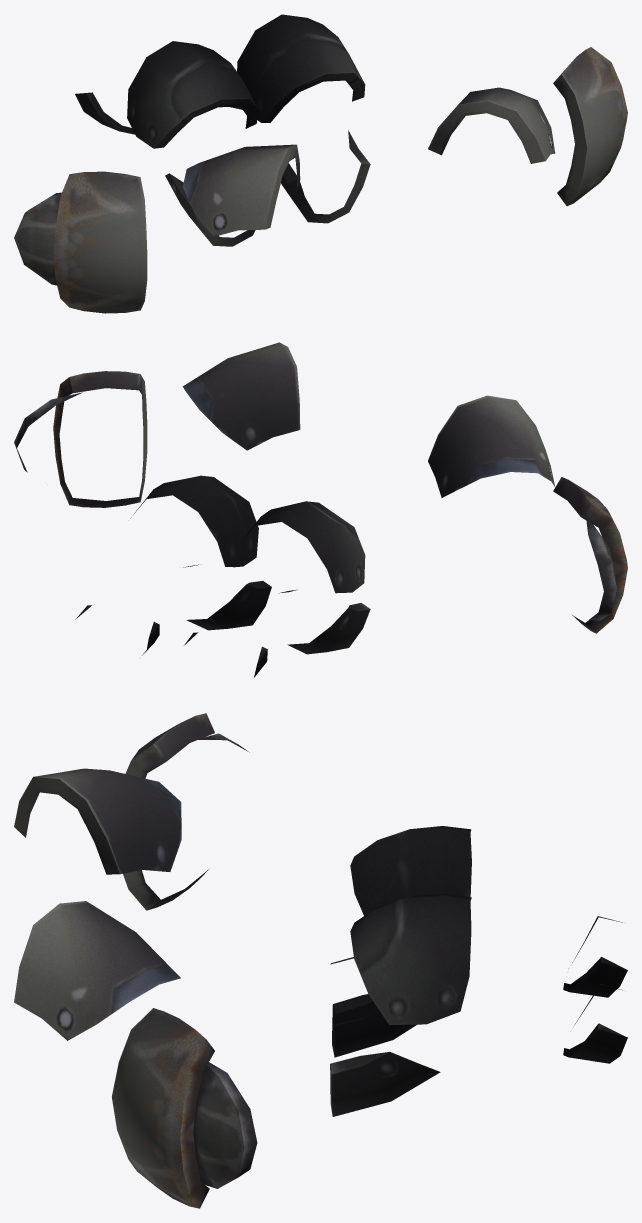
The model's file is Part_Ranger_pads.glb.
The picture shows the model from 3 angles, top to bottom: view 1: azimuth 30°, elevation 25°; view 2: azimuth 150°, elevation 25°; view 3: azimuth 270°, elevation 25°; orthographic projection. The views are drawn at different scales.
Visible parts, largest first — view 1: parts.model_r_pads_fixed-Mesh[0]; view 2: parts.model_r_pads_fixed-Mesh[0]; view 3: parts.model_r_pads_fixed-Mesh[0].
Part boxes in pixels (x1,y1,x2,y2): parts.model_r_pads_fixed-Mesh[0]: (14, 14, 627, 313); parts.model_r_pads_fixed-Mesh[0]: (14, 342, 627, 677); parts.model_r_pads_fixed-Mesh[0]: (14, 713, 627, 1208).
Bounding box in the file's own units: 1.3 × 0.3871 × 0.8913.
Materials: 1 (1 with a texture image).
